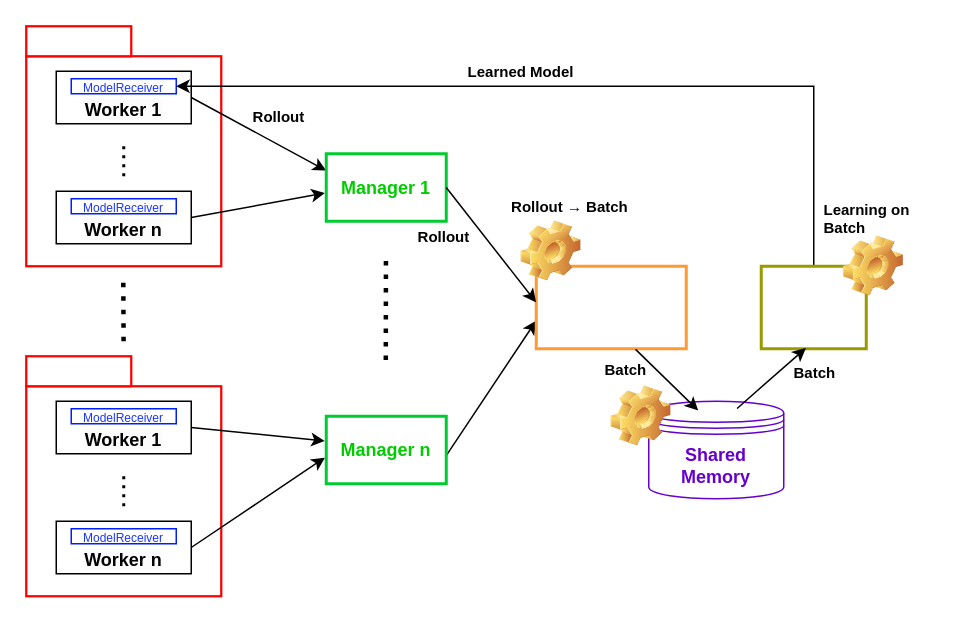
Image size: 953x624. Some labels were removed from this diagram. The centre of each missing label's shape, as x and y in pixels:
"Learner" goes at pixel 813 307.
"LearnerStorage" goes at pixel 610 307.
"Machine 1" goes at pixel 78 40.
"Machine n" goes at pixel 78 370.
